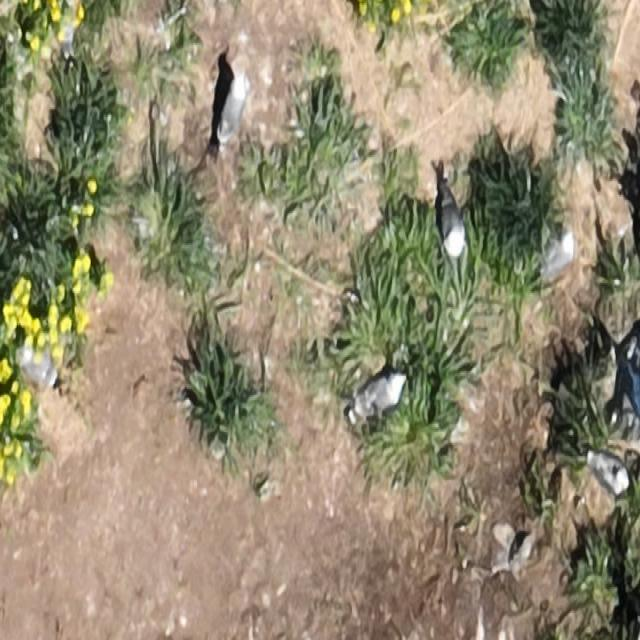umineko: (434, 181, 467, 258), (539, 225, 576, 285), (219, 64, 246, 140), (586, 451, 628, 495), (359, 378, 406, 413), (24, 348, 60, 388)
